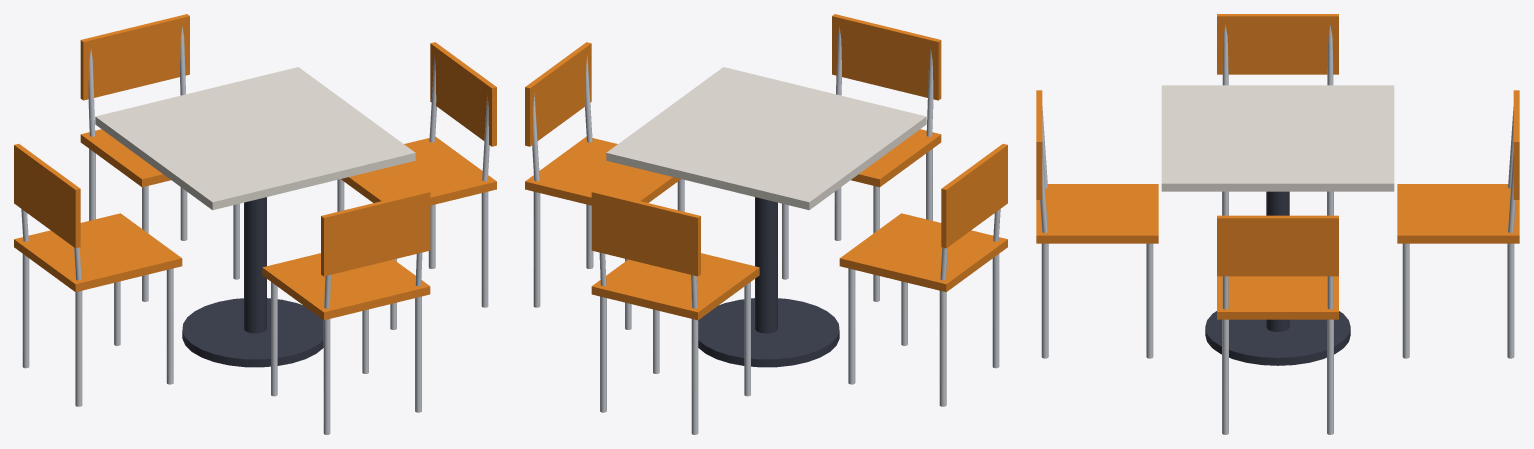
Rendered from mal-021.glb.
3 views of the same model, side by side, from view 1: azimuth 30°, elevation 25°; view 2: azimuth 150°, elevation 25°; view 3: azimuth 270°, elevation 25° (orthographic).
Parts seen in each view (by area): view 1: brand_shoes, laminate, chrome, dark_steel; view 2: brand_shoes, laminate, chrome, dark_steel; view 3: brand_shoes, laminate, chrome, dark_steel.
Boxes of the visible parts, <box> form: brand_shoes: <box>14,14,496,320</box>; laminate: <box>95,67,415,210</box>; chrome: <box>21,26,489,434</box>; dark_steel: <box>182,197,323,367</box>; brand_shoes: <box>525,14,1007,320</box>; laminate: <box>606,67,926,210</box>; chrome: <box>532,26,1000,434</box>; dark_steel: <box>698,197,839,367</box>; brand_shoes: <box>1036,14,1519,319</box>; laminate: <box>1161,85,1394,191</box>; chrome: <box>1040,25,1515,434</box>; dark_steel: <box>1205,191,1350,365</box>.
Bounding box in the file's own units: 1.66 × 0.83 × 1.66.
